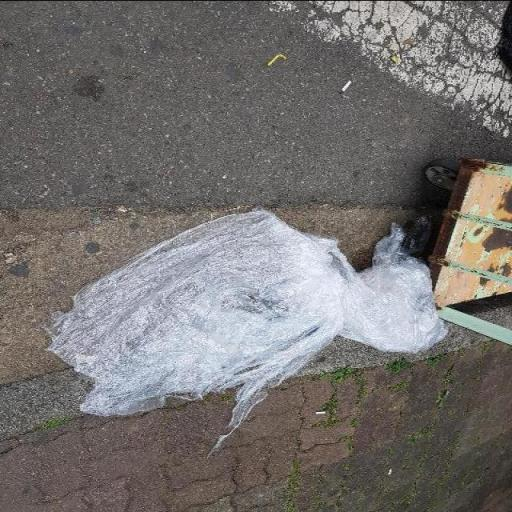plastic-bag: (33, 204, 447, 419)
